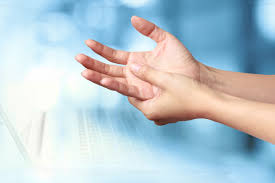hand: (69, 16, 212, 128)
